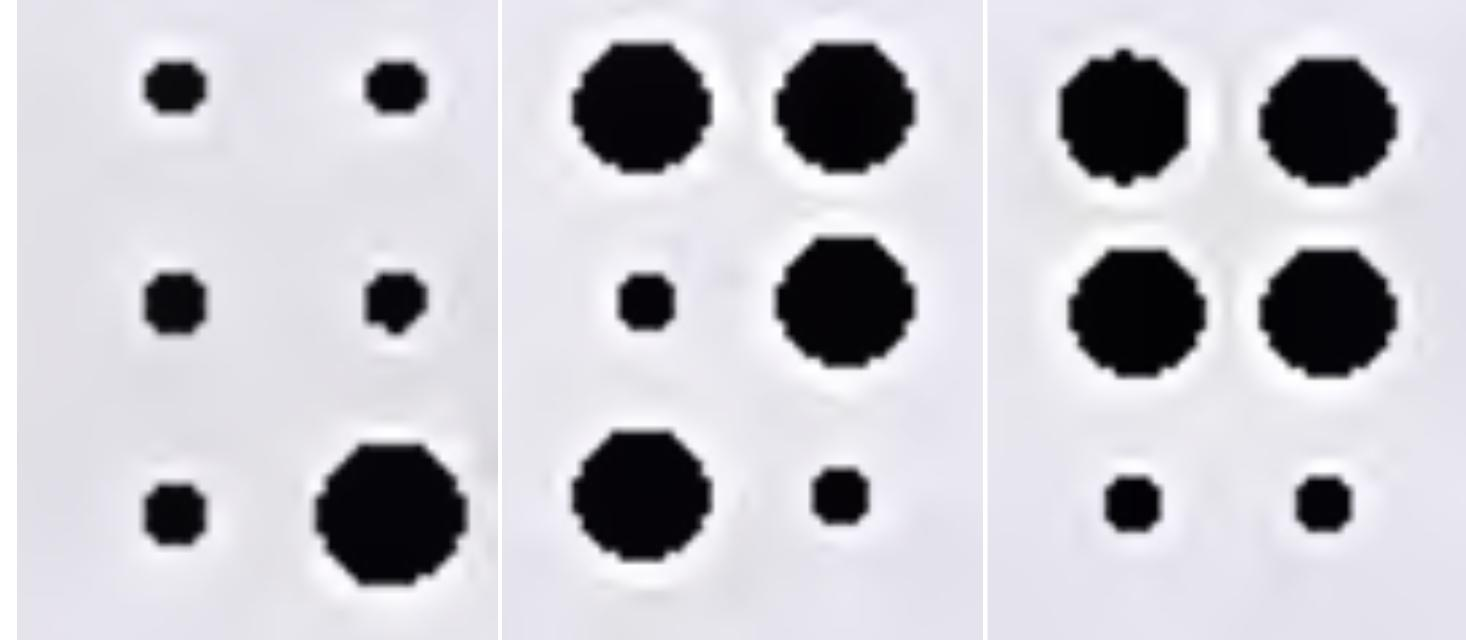capital_sign: (136, 53, 468, 592)
letter_G: (1056, 39, 1409, 562)
letter_N: (567, 36, 921, 562)
